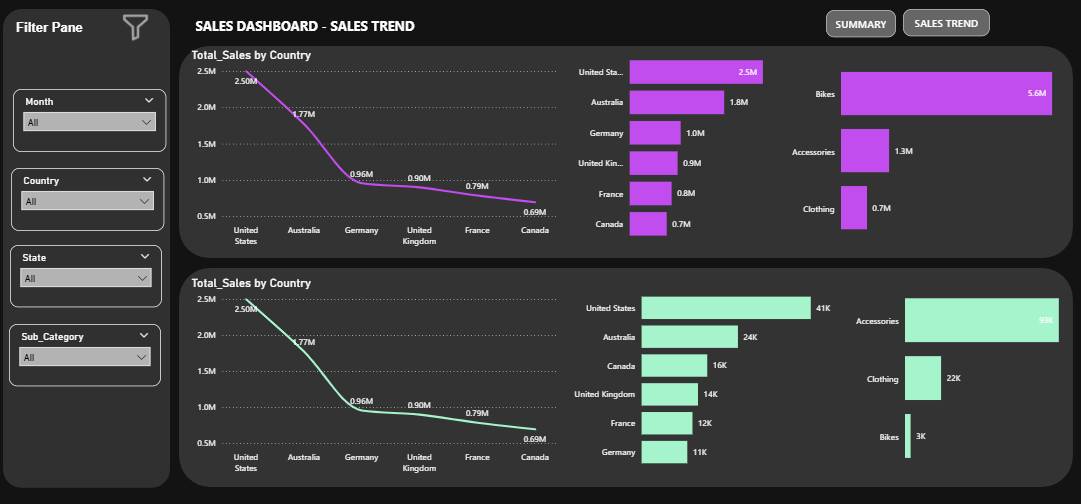

The page's visual inventory and layout, read from the dashboard file:
{"tool":"powerbi","page":{"name":"SALES TREND","canvas":[1550,900],"ordinal":1},"visuals":[{"type":"image","box":[714.8,630,44.7,6],"z":0},{"type":"textbox","box":[209.9,66.7,123.5,3.6],"z":1000},{"type":"shape","box":[7.1,4.3,238.6,684.3],"z":2000},{"type":"shape","box":[258.6,374.3,1277.1,312.9],"z":3000},{"type":"textbox","box":[646.5,631,75.6,3.9],"z":4000},{"type":"shape","box":[258.6,57.1,1277.1,302.9],"z":5000},{"type":"lineChart","fields":{"Y":["Measure.Total_Sales"],"Category":["sales_data.Country"]},"box":[271.4,60,540,291.4],"z":7000},{"type":"textbox","box":[277.1,10,412.9,44.3],"z":9000},{"type":"barChart","fields":{"Category":["sales_data.Country"],"Y":["Measure.Total_Sales"]},"box":[811.4,47.1,312.9,304.3],"z":12000},{"type":"barChart","fields":{"Y":["Measure.Total_Sales"],"Category":["sales_data.Product_Category"]},"box":[1124.3,48.6,411.4,311.4],"z":14000},{"type":"barChart","fields":{"Y":["Sum(sales_data.Order_Quantity)"],"Category":["sales_data.Country"]},"box":[811.4,385.7,390,290],"z":16000},{"type":"barChart","fields":{"Y":["Sum(sales_data.Order_Quantity)"],"Category":["sales_data.Product_Category"]},"box":[1215.7,371.4,331.4,315.7],"z":17000},{"type":"textbox","box":[10,15.7,127.1,32.9],"z":18000},{"type":"slicer","fields":{"Values":["sales_data.Date.Variation.Date Hierarchy.Month"]},"box":[21.4,118.6,218.6,90],"z":19000},{"type":"slicer","fields":{"Values":["sales_data.Country"]},"box":[18.6,231.4,218.6,90],"z":20000},{"type":"slicer","fields":{"Values":["sales_data.State"]},"box":[17.1,341.4,217.1,88.6],"z":21000},{"type":"slicer","fields":{"Values":["sales_data.Sub_Category"]},"box":[15.7,454.3,217.1,88.6],"z":22000},{"type":"actionButton","box":[1182.9,5.7,100,38.6],"z":23000},{"type":"actionButton","box":[1292.9,4.3,124.3,38.6],"z":24000},{"type":"image","box":[171.4,4.3,50,51.4],"z":25000},{"type":"lineChart","fields":{"Y":["Measure.Total_Sales"],"Category":["sales_data.Country"]},"box":[271.4,385.7,540,290],"z":26000}]}

Visuals, with their boxes on the page's 1550x900 design canvas (x1, y1, x2, y2). These are canvas units, not pixel positions in the 1081x504 screenshot, which may show the page scaled, cropped or inside an application window:
image: 715/630/760/636
textbox: 210/67/333/70
shape: 7/4/246/689
shape: 259/374/1536/687
textbox: 646/631/722/635
shape: 259/57/1536/360
lineChart - Measure.Total_Sales x sales_data.Country: 271/60/811/351
textbox: 277/10/690/54
barChart - sales_data.Country x Measure.Total_Sales: 811/47/1124/351
barChart - Measure.Total_Sales x sales_data.Product_Category: 1124/49/1536/360
barChart - Sum(sales_data.Order_Quantity) x sales_data.Country: 811/386/1201/676
barChart - Sum(sales_data.Order_Quantity) x sales_data.Product_Category: 1216/371/1547/687
textbox: 10/16/137/49
slicer - sales_data.Date.Variation.Date Hierarchy.Month: 21/119/240/209
slicer - sales_data.Country: 19/231/237/321
slicer - sales_data.State: 17/341/234/430
slicer - sales_data.Sub_Category: 16/454/233/543
actionButton: 1183/6/1283/44
actionButton: 1293/4/1417/43
image: 171/4/221/56
lineChart - Measure.Total_Sales x sales_data.Country: 271/386/811/676
